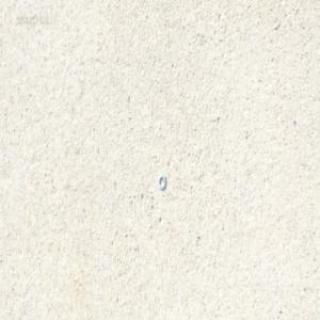Washertrack_idkeyframe: (157, 173, 165, 190)
